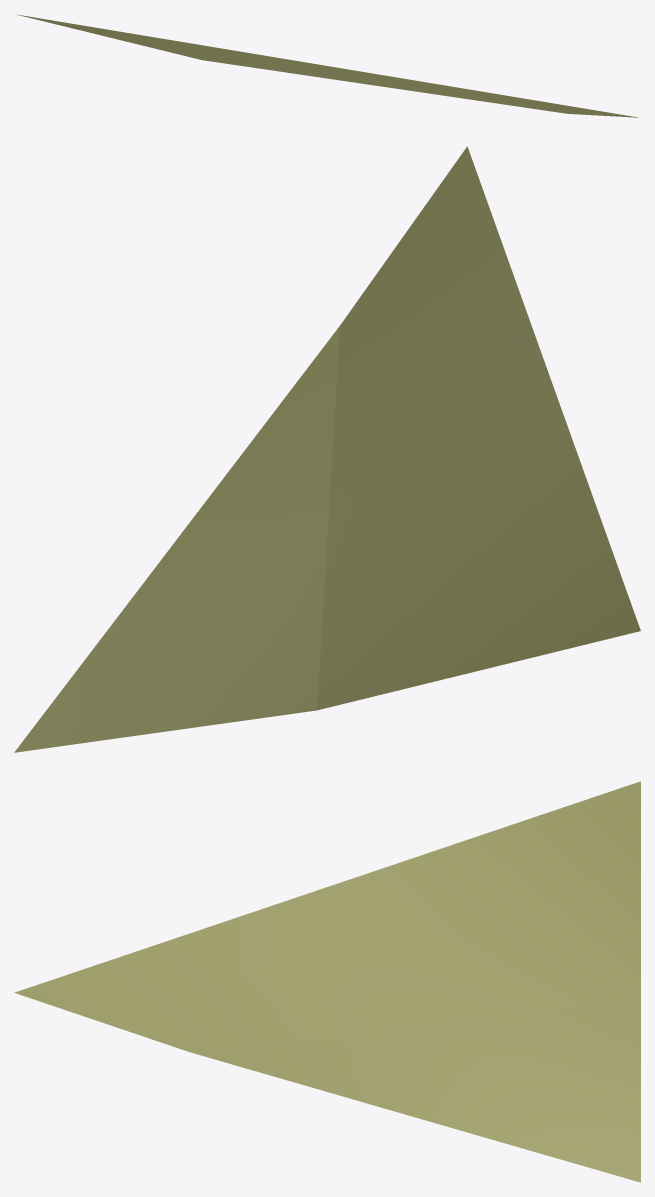
3 renders of one model, top to bottom at view 1: azimuth 30°, elevation 25°; view 2: azimuth 150°, elevation 25°; view 3: azimuth 270°, elevation 25°, orthographic. The views are drawn at different scales.
Bounding box in the file's own units: 0.2778 × 0.1163 × 0.348.
Materials: 1 (1 with a texture image).
